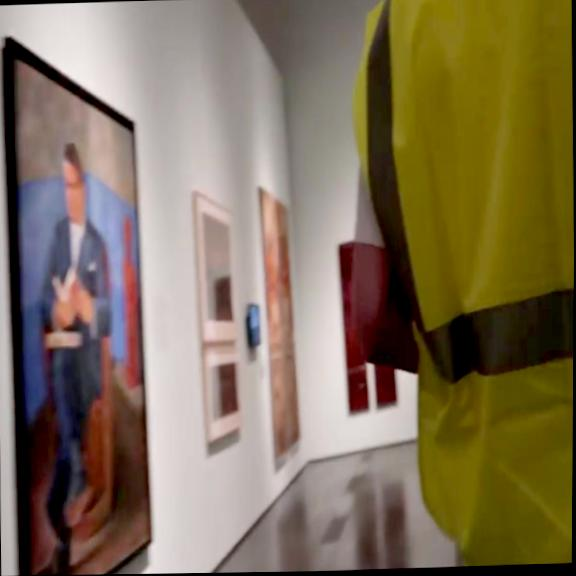safety_vest: (345, 0, 576, 570)
